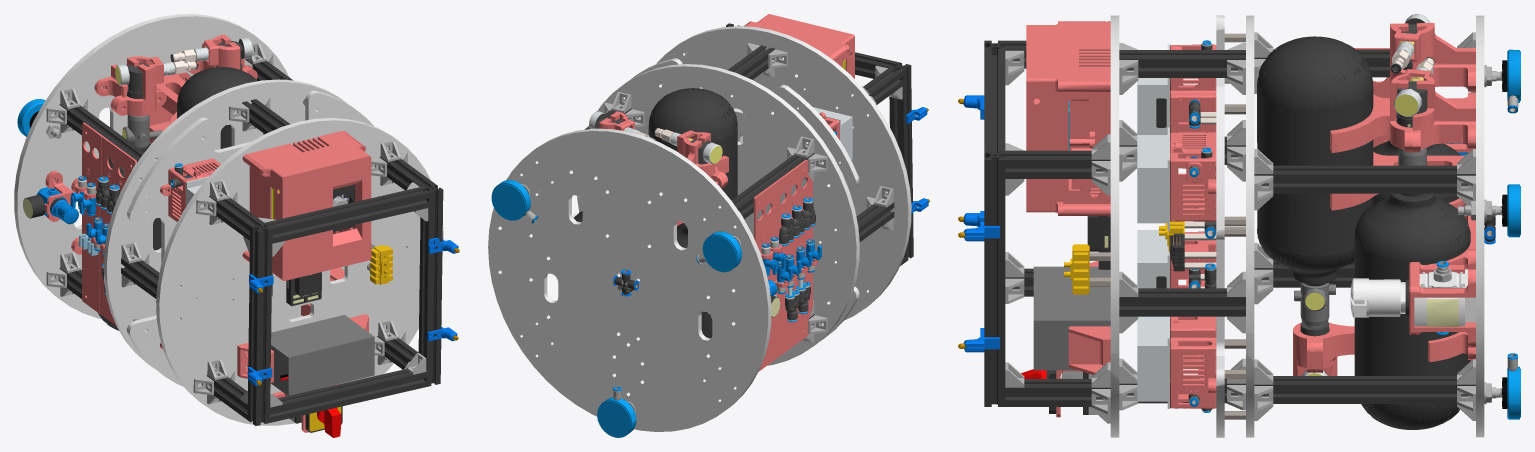
Rendered from atmos.glb.
3 renders of one model, left to right at view 1: azimuth 30°, elevation 25°; view 2: azimuth 150°, elevation 25°; view 3: azimuth 270°, elevation 25°, orthographic. The views are drawn at different scales.
Parts seen in each view (by area): view 1: alpha3_bottle_conncet_bot_left_v2-2 - Part; view 2: alpha3_bottle_conncet_bot_left_v2-2 - Part; view 3: alpha3_bottle_conncet_bot_left_v2-2 - Part.
Boxes of the visible parts, left/top/right/bottom form: alpha3_bottle_conncet_bot_left_v2-2 - Part: left=14, top=14, right=459, bottom=437; alpha3_bottle_conncet_bot_left_v2-2 - Part: left=488, top=14, right=929, bottom=437; alpha3_bottle_conncet_bot_left_v2-2 - Part: left=958, top=14, right=1520, bottom=437.
Bounding box in the file's own units: 0.3999 × 0.4 × 0.5333.
